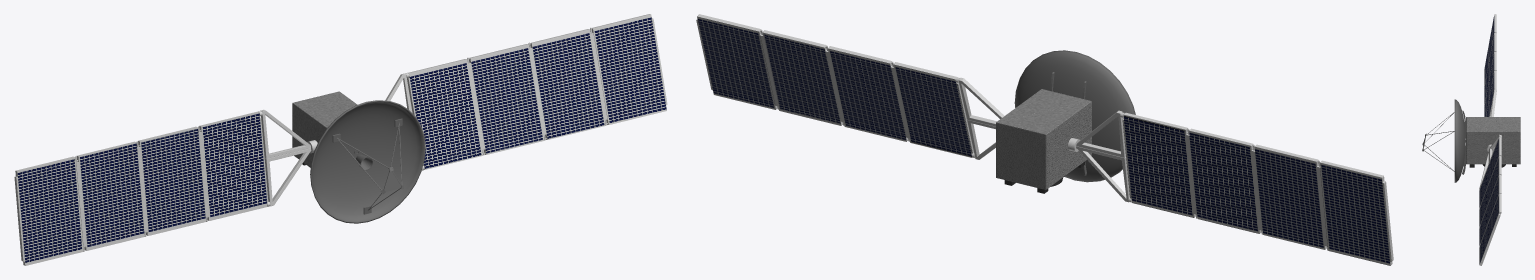
File: satellite.gltf
3 views of the same model, side by side, from view 1: azimuth 30°, elevation 25°; view 2: azimuth 150°, elevation 25°; view 3: azimuth 270°, elevation 25° (orthographic). The views are drawn at different scales.
Visible parts, largest first — view 1: Cylinder.022, Cylinder.000, Cylinder.016, Cube.010; view 2: Cylinder.022, Cylinder.000, Cube.010, Cylinder.016; view 3: Cube.010, Cylinder.000, Cylinder.016, Cylinder.022.
Part boxes in pixels (box(x1,y1,x2,y2)): Cylinder.022: box(14, 109, 317, 265); Cylinder.000: box(385, 14, 667, 170); Cylinder.016: box(310, 100, 425, 223); Cube.010: box(292, 91, 357, 167); Cylinder.022: box(1068, 110, 1393, 265); Cylinder.000: box(696, 14, 1004, 159); Cube.010: box(996, 89, 1091, 193); Cylinder.016: box(1014, 50, 1135, 182); Cube.010: box(1466, 117, 1520, 167); Cylinder.000: box(1479, 134, 1501, 265); Cylinder.016: box(1422, 99, 1465, 182); Cylinder.022: box(1484, 14, 1496, 116).
Bounding box in the file's own units: 27.14 × 4.87 × 5.72.
Materials: 3 (2 with a texture image).
